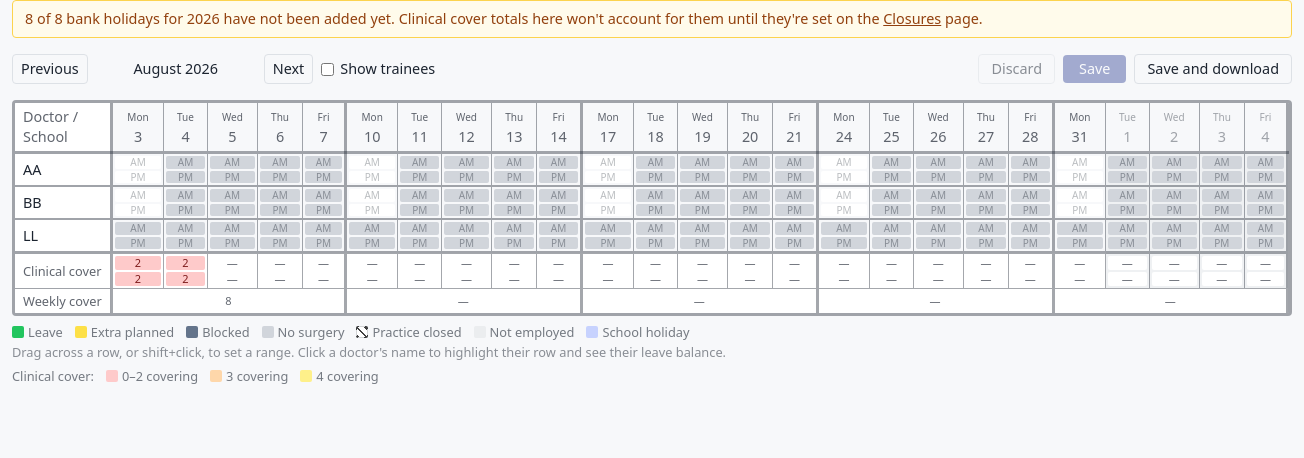
LeavePlanningPage › adds trainee rows when the toggle is on, and drops them again when it is off
This screenshot has width=1304, height=458.
expect the button "AA" is shown: met, box 15,156 -> 110,184
Click the checkbox with test id "planning-show-trainees": (328, 69) 321,62 -> 334,76
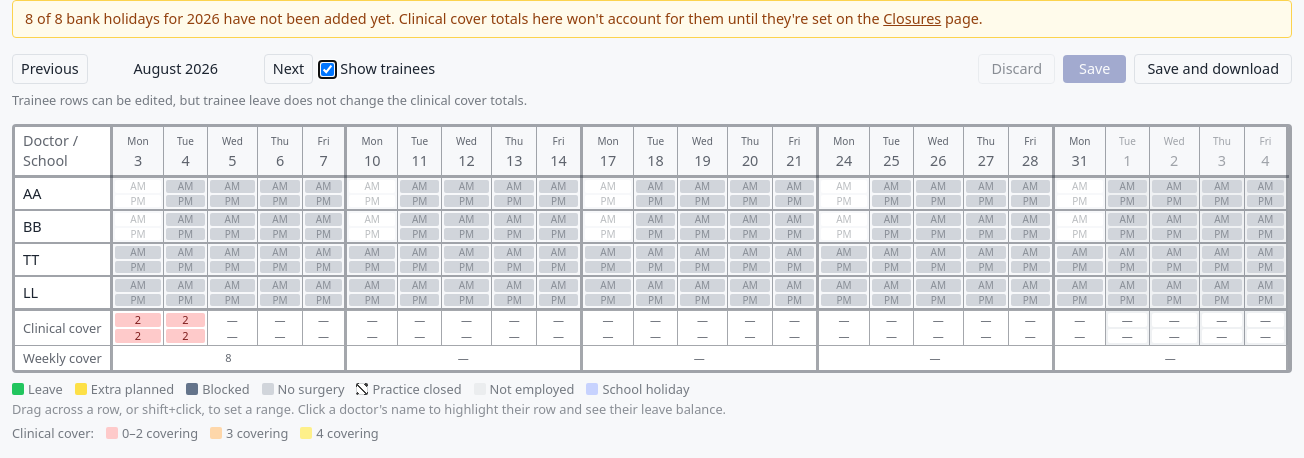
expect the button "TT" is shown: met, box 15,246 -> 110,274
Click the checkbox with test id "planning-show-trainees": (328, 69) 321,62 -> 334,76
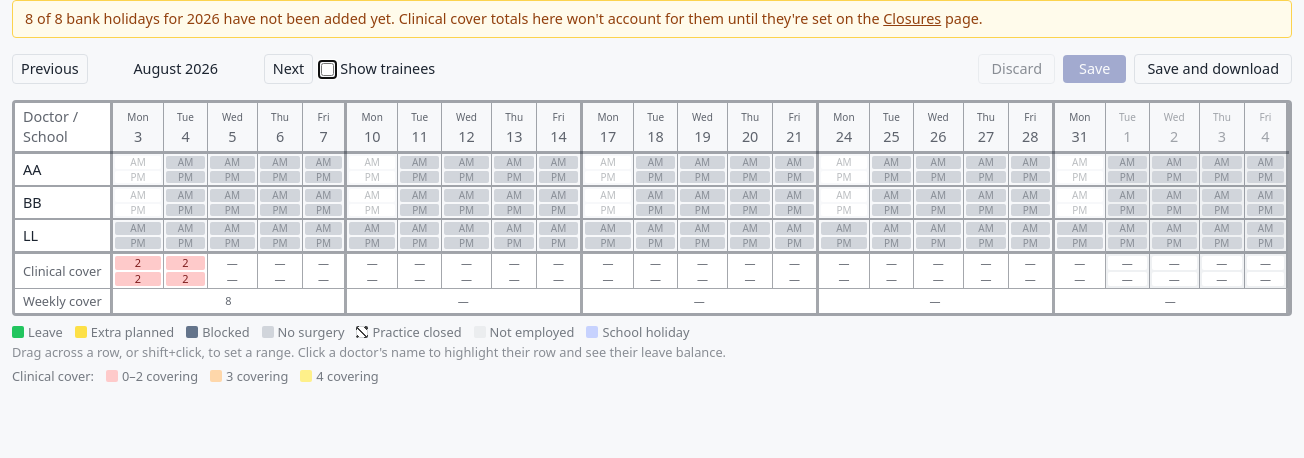
expect the button "TT" is gone: met
